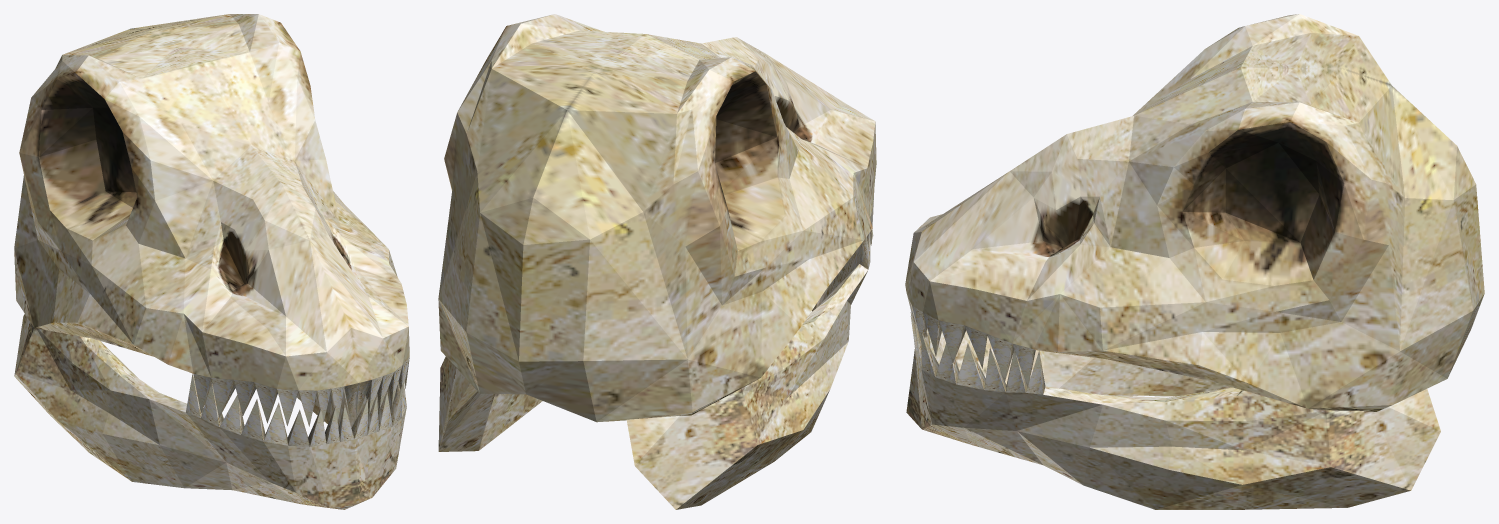
File: poi_tato_skel_grtr_krayt_head_s01_l0.fbx
3 views of the same model, side by side, from view 1: azimuth 30°, elevation 25°; view 2: azimuth 150°, elevation 25°; view 3: azimuth 270°, elevation 25° (orthographic). The views are drawn at different scales.
Parts seen in each view (by area): view 1: mesh_node; view 2: mesh_node; view 3: mesh_node.
Part boxes in pixels (bbox=[...]): mesh_node: bbox=[14, 14, 409, 509]; mesh_node: bbox=[438, 14, 876, 509]; mesh_node: bbox=[905, 14, 1484, 509].
Bounding box in the file's own units: 1.33 × 1.65 × 2.18.
